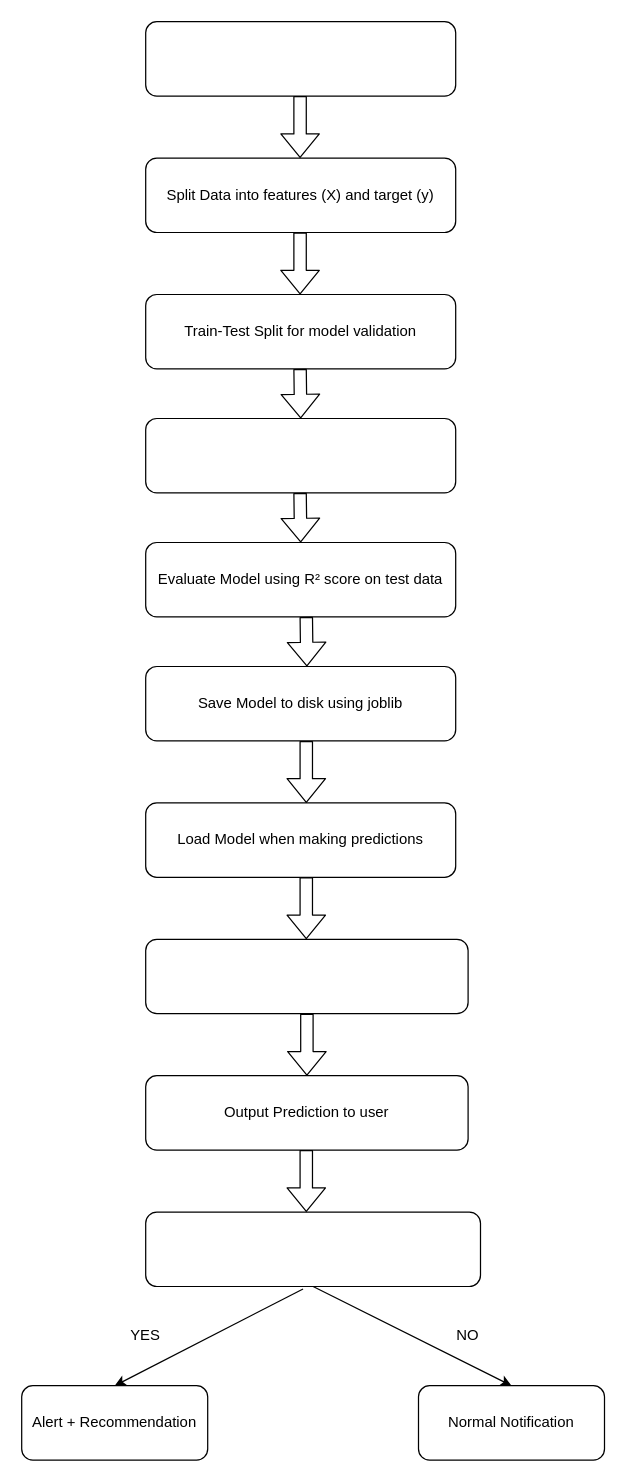
This 626x1482 diagram has some shape labels left out. Each missing label, with the centre of its shape:
"Carbon Emission > Threshold?" goes at point (312, 1248).
"Load Dataset (CSV, EXCEL, Data Table)" goes at point (300, 58).
"Predict Carbon Emission based on user input" goes at point (306, 976).
"Train Linear Regression Model on training data" goes at point (300, 455).
